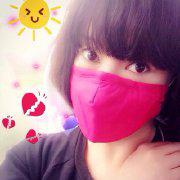OK: (64, 34, 173, 143)
